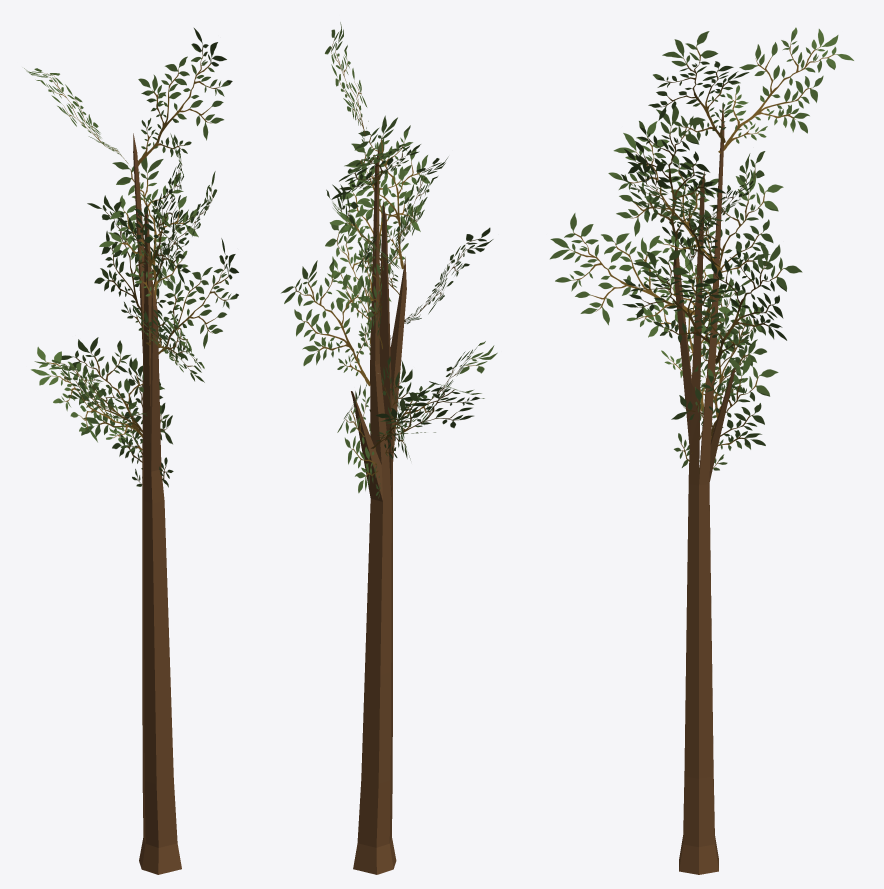
File: campfire-tree.glb
3 renders of one model, left to right at view 1: azimuth 30°, elevation 25°; view 2: azimuth 150°, elevation 25°; view 3: azimuth 270°, elevation 25°, orthographic. The views are drawn at different scales.
Visible parts, largest first — view 1: tree, firecamp-branch-leaves.013, firecamp-branch-leaves.010, firecamp-branch-leaves.006, firecamp-branch-leaves.004, firecamp-branch-leaves.005, firecamp-branch-leaves.011, firecamp-branch-leaves.002, firecamp-branch-leaves.001, firecamp-branch-leaves.007, firecamp-branch-leaves.008, firecamp-branch-leaves.009 (+2 smaller); view 2: tree, firecamp-branch-leaves.003, firecamp-branch-leaves.009, firecamp-branch-leaves.014, firecamp-branch-leaves.011, firecamp-branch-leaves.004, firecamp-branch-leaves.012, firecamp-branch-leaves.006, firecamp-branch-leaves.001, firecamp-branch-leaves.013, firecamp-branch-leaves.007, firecamp-branch-leaves.008 (+3 smaller); view 3: tree, firecamp-branch-leaves.008, firecamp-branch-leaves.012, firecamp-branch-leaves.003, firecamp-branch-leaves.002, firecamp-branch-leaves.009, firecamp-branch-leaves.013, firecamp-branch-leaves.005, firecamp-branch-leaves.001, firecamp-branch-leaves.004, firecamp-branch-leaves.014, firecamp-branch-leaves.007 (+3 smaller).
Boxes of the visible parts, x1=… form: tree: x1=133, y1=133, x2=181, y2=874; firecamp-branch-leaves.013: x1=138, y1=28, x2=232, y2=165; firecamp-branch-leaves.010: x1=99, y1=152, x2=199, y2=302; firecamp-branch-leaves.006: x1=61, y1=337, x2=169, y2=470; firecamp-branch-leaves.004: x1=143, y1=238, x2=238, y2=366; firecamp-branch-leaves.005: x1=87, y1=195, x2=166, y2=330; firecamp-branch-leaves.011: x1=31, y1=346, x2=136, y2=442; firecamp-branch-leaves.002: x1=117, y1=192, x2=190, y2=284; firecamp-branch-leaves.001: x1=112, y1=357, x2=173, y2=487; firecamp-branch-leaves.007: x1=34, y1=359, x2=147, y2=432; firecamp-branch-leaves.008: x1=132, y1=305, x2=204, y2=382; firecamp-branch-leaves.009: x1=153, y1=133, x2=183, y2=287; tree: x1=351, y1=146, x2=406, y2=874; firecamp-branch-leaves.003: x1=281, y1=259, x2=370, y2=386; firecamp-branch-leaves.009: x1=354, y1=115, x2=430, y2=269; firecamp-branch-leaves.014: x1=330, y1=138, x2=424, y2=300; firecamp-branch-leaves.011: x1=370, y1=381, x2=484, y2=448; firecamp-branch-leaves.004: x1=325, y1=213, x2=391, y2=373; firecamp-branch-leaves.012: x1=331, y1=143, x2=420, y2=199; firecamp-branch-leaves.006: x1=369, y1=356, x2=418, y2=460; firecamp-branch-leaves.001: x1=337, y1=383, x2=380, y2=498; firecamp-branch-leaves.013: x1=325, y1=22, x2=374, y2=179; firecamp-branch-leaves.007: x1=387, y1=341, x2=497, y2=433; firecamp-branch-leaves.008: x1=389, y1=227, x2=493, y2=340; tree: x1=673, y1=107, x2=735, y2=874; firecamp-branch-leaves.008: x1=549, y1=213, x2=694, y2=326; firecamp-branch-leaves.012: x1=718, y1=27, x2=853, y2=153; firecamp-branch-leaves.003: x1=700, y1=241, x2=802, y2=363; firecamp-branch-leaves.002: x1=608, y1=121, x2=721, y2=271; firecamp-branch-leaves.009: x1=624, y1=106, x2=725, y2=241; firecamp-branch-leaves.013: x1=648, y1=31, x2=749, y2=143; firecamp-branch-leaves.005: x1=682, y1=170, x2=783, y2=324; firecamp-branch-leaves.001: x1=671, y1=354, x2=778, y2=473; firecamp-branch-leaves.004: x1=622, y1=250, x2=732, y2=343; firecamp-branch-leaves.014: x1=621, y1=154, x2=722, y2=270; firecamp-branch-leaves.007: x1=646, y1=255, x2=745, y2=411.
Bounding box in the file's own units: 31.19 × 134 × 46.88.
Materials: 2 (1 with a texture image).
